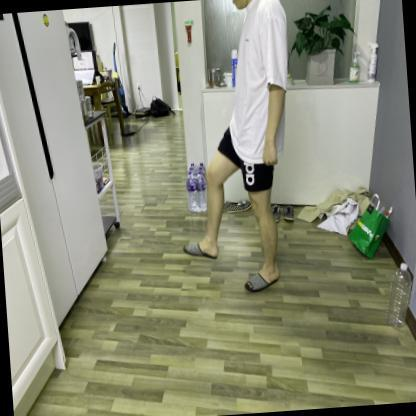no_safety-shoe: (241, 260, 286, 299), (185, 232, 232, 268)
